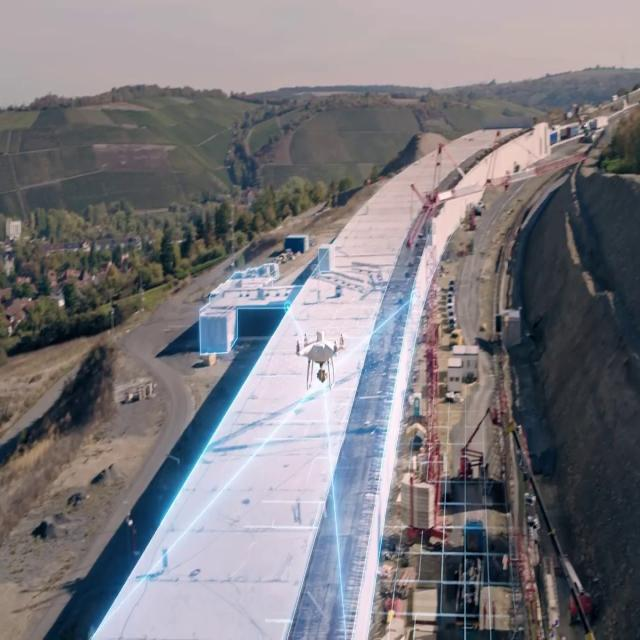drone: (295, 327, 345, 390)
